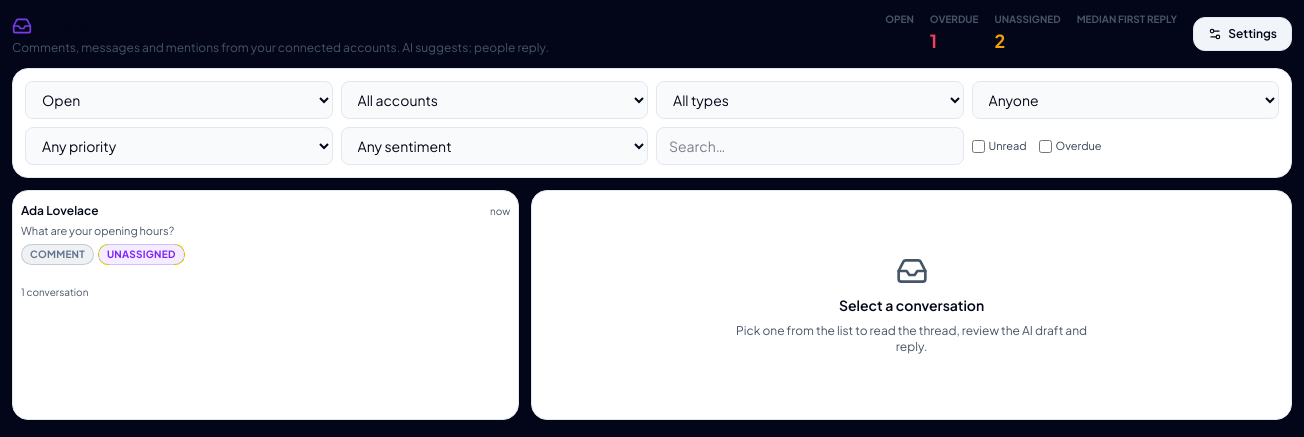
conversation view › read-only users can read but not reply, assign or create leads
Click the button "Ada Lovelace".
click(60, 210)  # box [21,199,510,268]
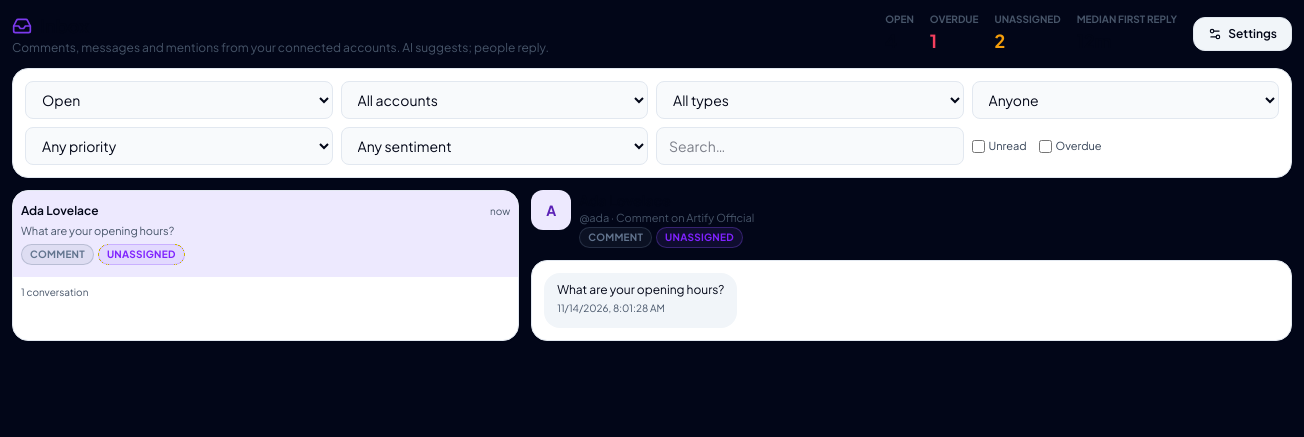
Check: the list named "Conversation thread" is shown, box [544,272,737,328]
Check: the text "What are your opening hours?" below "@ada" is shown, box [557,282,724,296]
